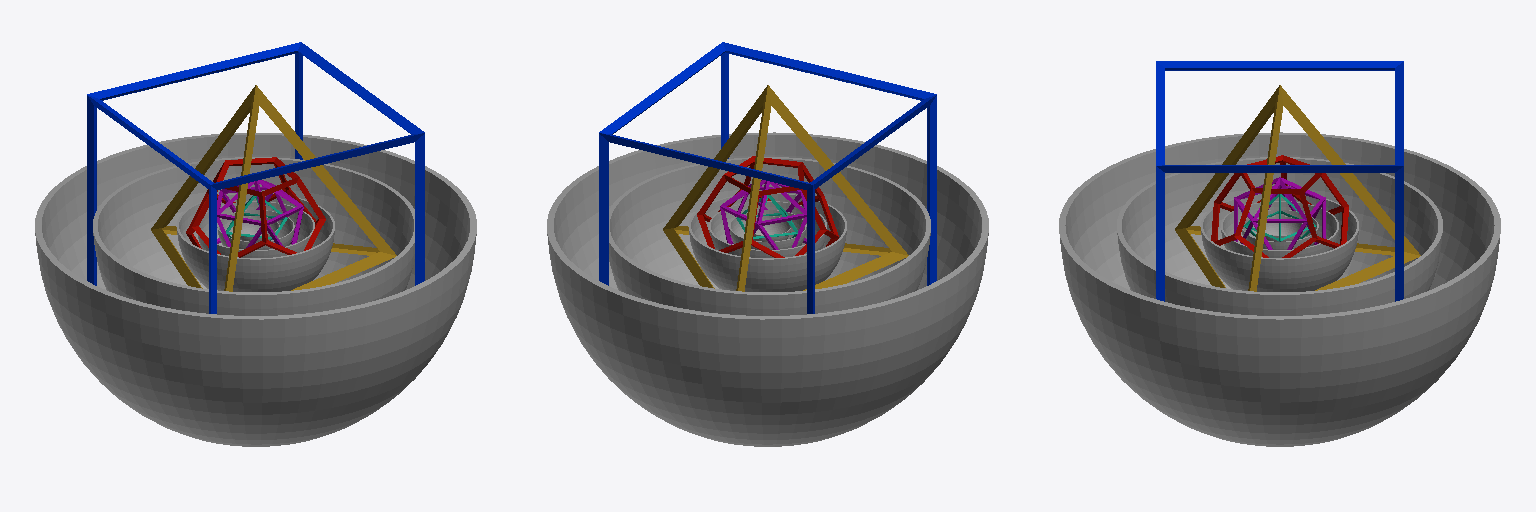
The model's file is nested-solids.obj.
3 renders of one model, left to right at view 1: azimuth 30°, elevation 25°; view 2: azimuth 150°, elevation 25°; view 3: azimuth 270°, elevation 25°, orthographic.
Visible parts, largest first — view 1: Sphere.004, Sphere, Cube, Solid, Sphere.001, Solid.002, Solid.003, Sphere.002, Sphere.003; view 2: Sphere.004, Sphere, Cube, Solid, Sphere.001, Solid.002, Solid.003, Sphere.002, Sphere.003; view 3: Sphere.004, Sphere, Cube, Solid, Sphere.001, Solid.002, Sphere.002, Solid.003, Sphere.003, Sphere.005.
Boxes of the visible parts, x1,y1,x2,y2 form: Sphere.004: [35, 133, 476, 446]; Sphere: [93, 157, 414, 315]; Cube: [87, 42, 424, 313]; Solid: [151, 85, 396, 291]; Sphere.001: [177, 193, 334, 291]; Solid.002: [186, 157, 325, 257]; Solid.003: [217, 180, 303, 247]; Sphere.002: [198, 201, 314, 257]; Sphere.003: [217, 210, 294, 249]; Sphere.004: [547, 132, 988, 446]; Sphere: [609, 157, 930, 315]; Cube: [599, 42, 936, 313]; Solid: [663, 85, 908, 291]; Sphere.001: [689, 193, 846, 291]; Solid.002: [697, 156, 838, 257]; Solid.003: [720, 180, 806, 249]; Sphere.002: [709, 201, 826, 257]; Sphere.003: [729, 210, 806, 249]; Sphere.004: [1059, 132, 1500, 446]; Sphere: [1117, 157, 1442, 315]; Cube: [1156, 61, 1403, 301]; Solid: [1175, 85, 1420, 291]; Sphere.001: [1201, 194, 1358, 291]; Solid.002: [1211, 155, 1348, 257]; Sphere.002: [1221, 201, 1338, 257]; Solid.003: [1234, 177, 1325, 249]; Sphere.003: [1242, 210, 1318, 249]; Sphere.005: [1257, 216, 1302, 241].
Size of the model in its own units: 58.76 by 50.21 by 58.76.